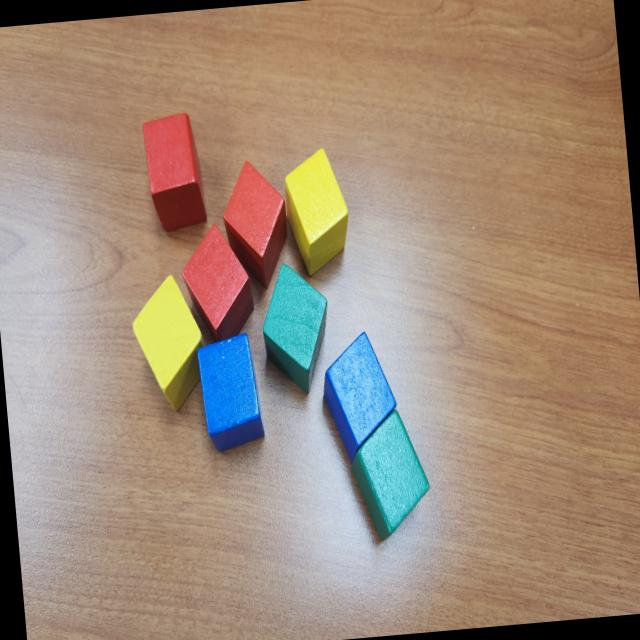blue: (318, 330, 402, 464), (196, 330, 266, 453)
green: (346, 404, 433, 544), (258, 258, 336, 398)
red: (177, 218, 256, 346), (218, 158, 292, 292), (142, 110, 208, 232)
yellow: (129, 273, 209, 414), (280, 146, 354, 278)
